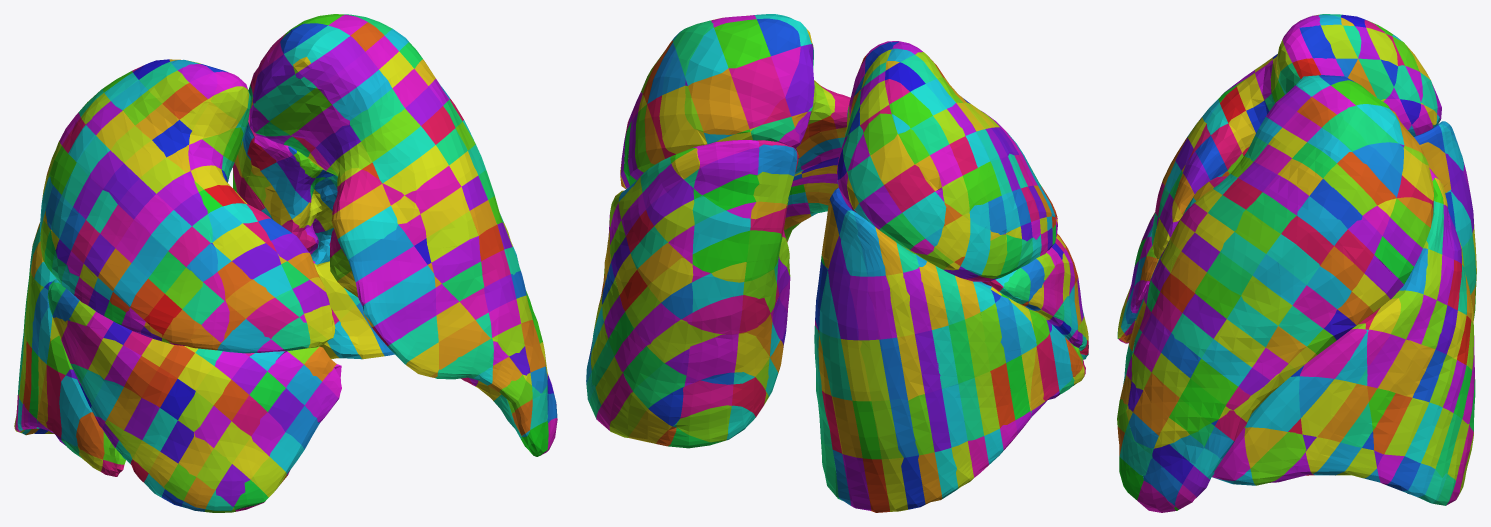
Rendered from lung-male-small.glb.
The picture shows the model from 3 angles, left to right: view 1: azimuth 30°, elevation 25°; view 2: azimuth 150°, elevation 25°; view 3: azimuth 270°, elevation 25°; orthographic projection. The views are drawn at different scales.
Parts seen in each view (by area): view 1: LUL-13B1, LUL-12B1, LUL-14B1, LUL-11B1, LUL-8A2, LUL-10B1, LUL-9B1, RLL-2B4, LUL-9A2, LUL-7A2, LUL-4A2, LUL-5A2 (+133 smaller); view 2: LUL-1B4, LUL-1B3, LUL-1A3, LUL-2B5, LLL-3B4, LLL-9B1, LLL-4B3, LLL-6B2, LUL-2B2, LLL-1B5, LLL-7B2, LUL-1A4 (+112 smaller); view 3: LLL-14C6, LLL-13C7, LLL-14B5, LLL-13B6, LUL-10A5, LLL-12B6, LUL-9A5, LUL-11A5, LUL-8A5, LUL-12A5, LUL-4A5, LUL-13A5 (+145 smaller).
Part boxes in pixels (<box>): LUL-13B1: <box>362,265,435,326</box>; LUL-12B1: <box>355,246,427,305</box>; LUL-14B1: <box>374,288,436,344</box>; LUL-11B1: <box>348,224,413,281</box>; LUL-8A2: <box>372,126,435,182</box>; LUL-10B1: <box>337,206,397,259</box>; LUL-9B1: <box>331,184,390,238</box>; RLL-2B4: <box>59,375,92,446</box>; LUL-9A2: <box>383,145,448,195</box>; LUL-7A2: <box>361,108,420,161</box>; LUL-4A2: <box>317,52,378,104</box>; LUL-5A2: <box>332,70,392,120</box>; LUL-1B4: <box>688,68,749,134</box>; LUL-1B3: <box>728,56,784,128</box>; LUL-1A3: <box>714,19,770,68</box>; LUL-2B5: <box>659,86,707,154</box>; LLL-3B4: <box>686,333,738,380</box>; LLL-9B1: <box>694,147,759,194</box>; LLL-4B3: <box>691,295,743,334</box>; LLL-6B2: <box>692,230,749,273</box>; LUL-2B2: <box>785,44,814,116</box>; LLL-1B5: <box>676,405,731,442</box>; LLL-7B2: <box>692,210,750,253</box>; LUL-1A4: <box>685,28,728,85</box>; LLL-14C6: <box>1245,376,1300,431</box>; LLL-13C7: <box>1250,432,1306,485</box>; LLL-14B5: <box>1300,328,1366,378</box>; LLL-13B6: <box>1301,379,1356,436</box>; LUL-10A5: <box>1253,254,1306,305</box>; LLL-12B6: <box>1317,384,1368,442</box>; LUL-9A5: <box>1266,234,1319,284</box>; LUL-11A5: <box>1241,275,1292,325</box>; LUL-8A5: <box>1281,216,1333,265</box>; LUL-12A5: <box>1227,296,1277,347</box>; LUL-4A5: <box>1337,152,1396,205</box>; LUL-13A5: <box>1214,319,1265,367</box>.
Size of the model in its own units: 0.2596 by 0.2279 by 0.1896.
